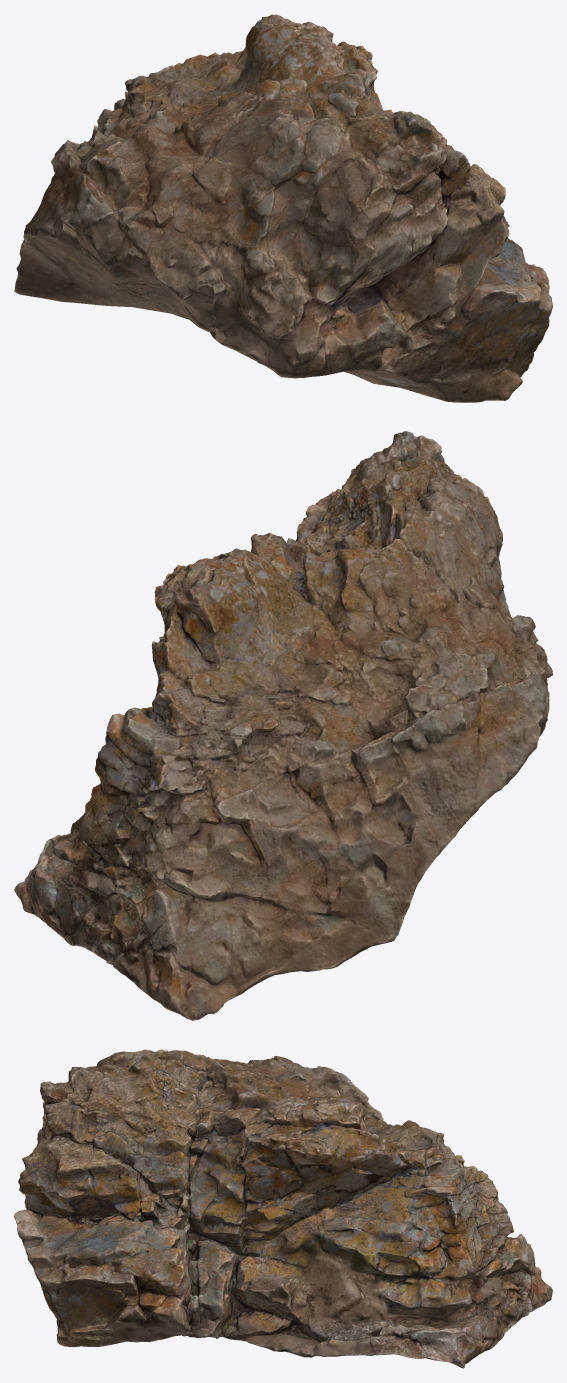
The model's file is boulder_01.glb.
The picture shows the model from 3 angles, top to bottom: view 1: azimuth 30°, elevation 25°; view 2: azimuth 150°, elevation 25°; view 3: azimuth 270°, elevation 25°; orthographic projection. The views are drawn at different scales.
Visible parts, largest first — view 1: boulder_01; view 2: boulder_01; view 3: boulder_01.
Part boxes in pixels (left/top/right/bottom): boulder_01: left=14, top=14, right=552, bottom=402; boulder_01: left=14, top=431, right=552, bottom=1020; boulder_01: left=14, top=1049, right=552, bottom=1368.
Size of the model in its own units: 1.27 by 1 by 1.83.
1 material, 1 textured.
